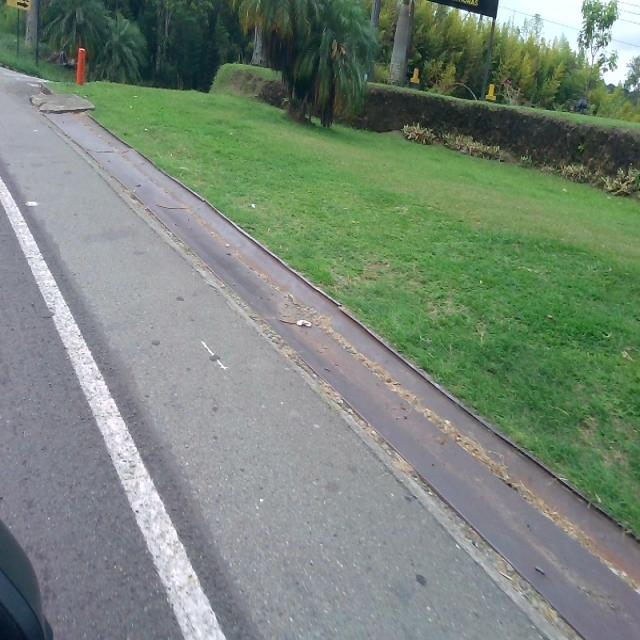DITCH: (10, 72, 638, 638)
